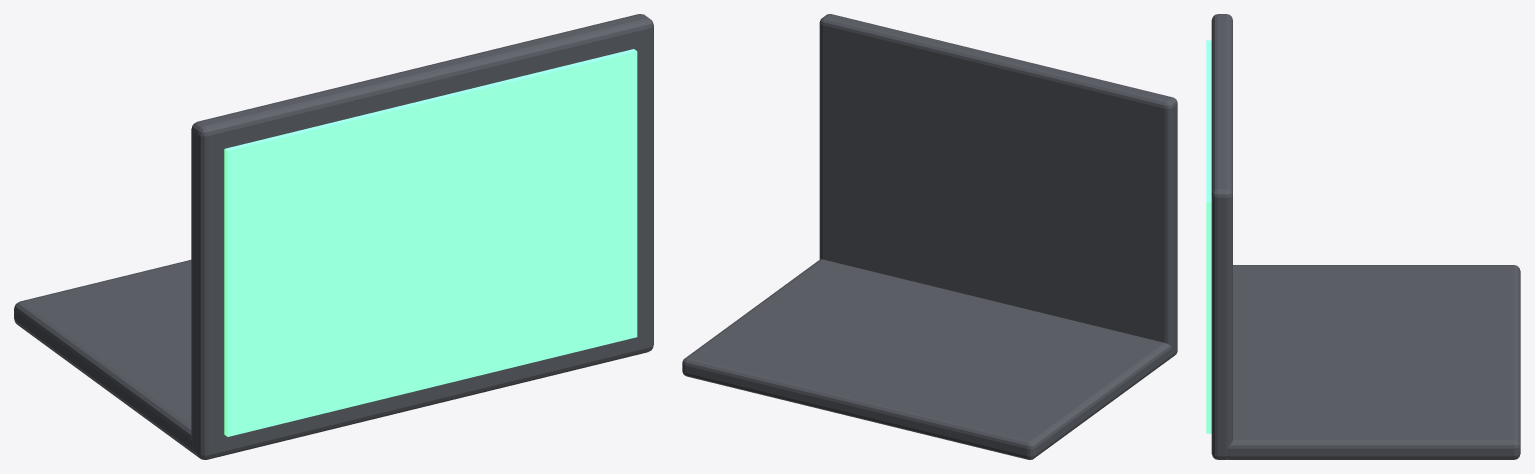
The model's file is datapad_folding.glb.
3 renders of one model, left to right at view 1: azimuth 30°, elevation 25°; view 2: azimuth 150°, elevation 25°; view 3: azimuth 270°, elevation 25°, orthographic. The views are drawn at different scales.
Visible parts, largest first — view 1: GD_datapad_folding__m1, GD_datapad_folding__m0; view 2: GD_datapad_folding__m0; view 3: GD_datapad_folding__m0, GD_datapad_folding__m1.
Part boxes in pixels (x1,y1,x2,y2): GD_datapad_folding__m1: [224, 49, 637, 436]; GD_datapad_folding__m0: [14, 14, 653, 459]; GD_datapad_folding__m0: [682, 14, 1177, 459]; GD_datapad_folding__m0: [1211, 14, 1520, 459]; GD_datapad_folding__m1: [1206, 40, 1211, 433].
Size of the model in its own units: 0.2 by 0.14 by 0.1475.
